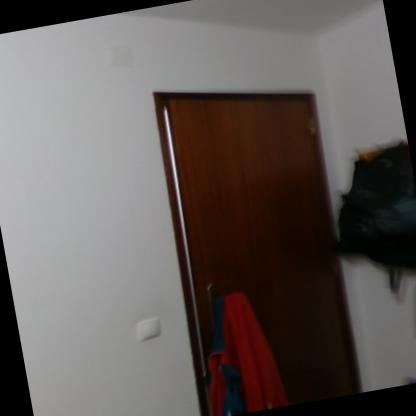closed: (130, 53, 399, 415)
